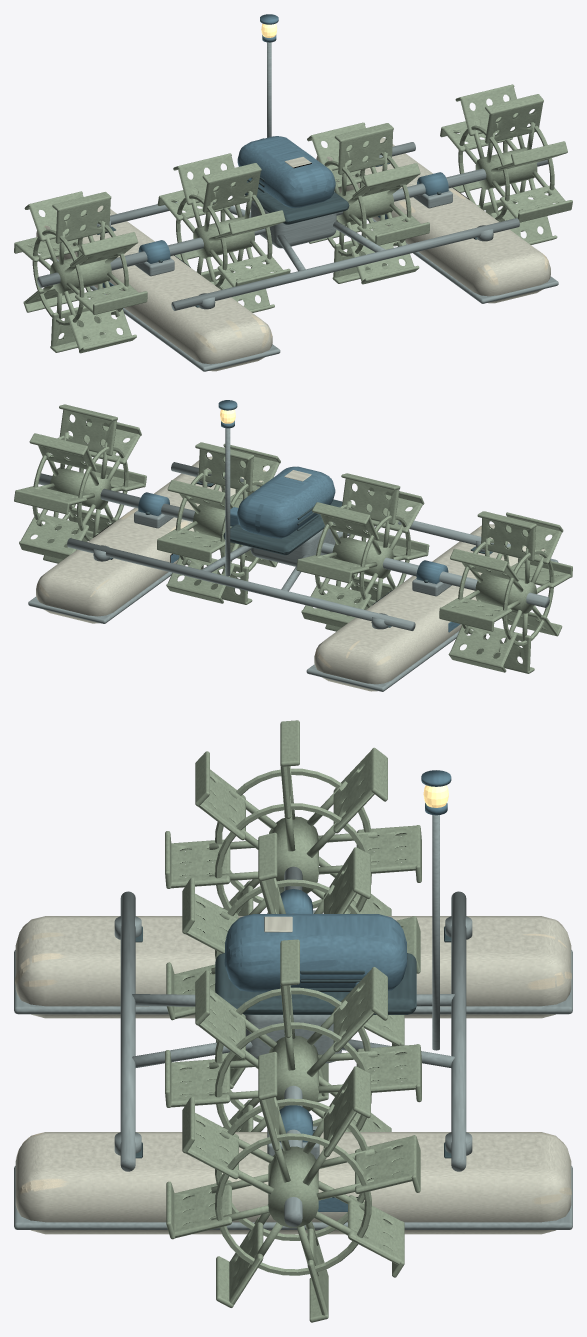
File: aerator-painterly.glb
3 renders of one model, top to bottom at view 1: azimuth 30°, elevation 25°; view 2: azimuth 150°, elevation 25°; view 3: azimuth 270°, elevation 25°, orthographic. The views are drawn at different scales.
Parts seen in each view (by area): view 1: StaticFrameAndMotor, WheelMesh_1, WheelMesh_4, WheelMesh_3, WheelMesh_2, Pontoon_Left, Pontoon_Right, Paint_Original dry brush 9, Paint_Blue enamel dry brush 6; view 2: StaticFrameAndMotor, WheelMesh_1, WheelMesh_4, WheelMesh_2, Pontoon_Left, WheelMesh_3, Pontoon_Right; view 3: StaticFrameAndMotor, Pontoon_Right, WheelMesh_4, Pontoon_Left, WheelMesh_1, WheelMesh_3, WheelMesh_2, Paint_Original dry brush 10, Paint_Blue enamel dry brush 6, Paint_Original dry brush 9.
Boxes of the visible parts, x1,y1,x2,y2 form: StaticFrameAndMotor: [37, 14, 558, 371]; WheelMesh_1: [14, 191, 147, 353]; WheelMesh_4: [440, 84, 572, 244]; WheelMesh_3: [307, 122, 429, 284]; WheelMesh_2: [157, 153, 290, 312]; Pontoon_Left: [36, 205, 272, 371]; Pontoon_Right: [316, 137, 550, 303]; Paint_Original dry brush 9: [44, 225, 547, 353]; Paint_Blue enamel dry brush 6: [260, 136, 334, 197]; StaticFrameAndMotor: [28, 400, 558, 691]; WheelMesh_1: [439, 511, 572, 673]; WheelMesh_4: [14, 404, 146, 563]; WheelMesh_2: [296, 473, 429, 631]; Pontoon_Left: [314, 524, 545, 691]; WheelMesh_3: [157, 442, 280, 604]; Pontoon_Right: [36, 456, 265, 623]; StaticFrameAndMotor: [14, 770, 572, 1229]; Pontoon_Right: [15, 1132, 571, 1234]; WheelMesh_4: [166, 1051, 420, 1322]; Pontoon_Left: [15, 916, 571, 1018]; WheelMesh_1: [165, 720, 421, 915]; WheelMesh_3: [165, 939, 421, 1131]; WheelMesh_2: [166, 832, 420, 1101]; Paint_Original dry brush 10: [16, 933, 571, 1194]; Paint_Blue enamel dry brush 6: [224, 914, 407, 970]; Paint_Original dry brush 9: [15, 918, 571, 1204].
Size of the model in its own units: 1.24 by 0.555 by 0.744.
10 materials, 9 textured.
